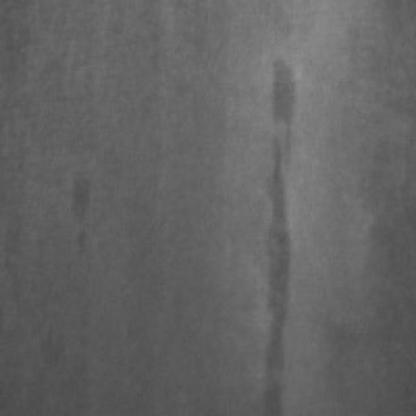inclusion: (245, 114, 302, 412), (256, 48, 304, 198), (56, 162, 100, 264)
